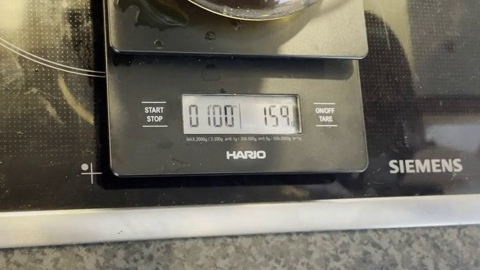display: (181, 95, 299, 132)
